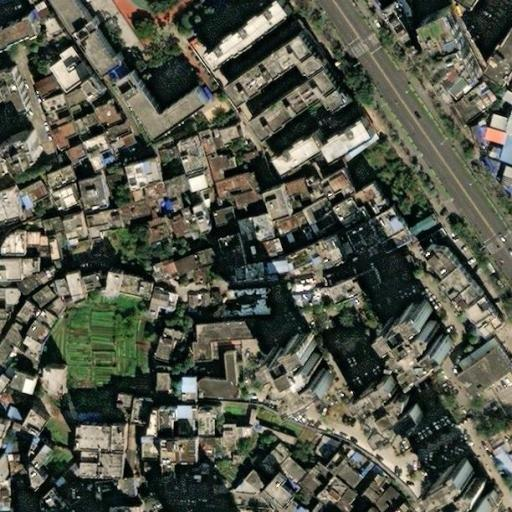building: (218, 30, 320, 102), (242, 66, 342, 138), (113, 72, 201, 137), (372, 294, 445, 367), (340, 361, 407, 430), (49, 0, 114, 70), (261, 332, 325, 399), (424, 459, 493, 512), (421, 6, 469, 61), (191, 322, 253, 363), (389, 4, 433, 60), (476, 433, 512, 496), (443, 269, 489, 318), (265, 130, 315, 172), (317, 118, 366, 160), (300, 178, 336, 235), (39, 44, 83, 90), (482, 15, 512, 80), (375, 211, 417, 255), (283, 267, 327, 308), (23, 312, 56, 366), (449, 83, 493, 123), (201, 354, 237, 401), (0, 261, 42, 299), (246, 216, 278, 263), (471, 300, 509, 338), (326, 173, 362, 211), (329, 451, 365, 489), (360, 185, 395, 224), (293, 463, 329, 500), (185, 277, 227, 308), (209, 171, 255, 199), (81, 135, 111, 177), (339, 199, 374, 234), (310, 477, 345, 512), (131, 183, 164, 220), (31, 439, 56, 486), (352, 222, 386, 256), (323, 236, 358, 269), (325, 276, 363, 306), (27, 0, 60, 34), (252, 441, 284, 476), (152, 257, 195, 283), (282, 240, 319, 270), (431, 249, 465, 281), (365, 482, 401, 512), (222, 467, 260, 494), (8, 89, 39, 122), (255, 473, 288, 504), (45, 120, 75, 154), (257, 184, 286, 219), (81, 181, 109, 217), (69, 422, 105, 450), (160, 177, 187, 214), (485, 417, 512, 454), (218, 237, 249, 269), (353, 472, 383, 505), (124, 160, 155, 191), (266, 456, 297, 487), (160, 440, 196, 466), (277, 181, 307, 212), (2, 481, 32, 512), (194, 408, 220, 443), (345, 464, 373, 496), (57, 144, 84, 176), (88, 210, 120, 237), (494, 87, 512, 135), (152, 327, 176, 362), (93, 103, 124, 130), (172, 139, 197, 172), (31, 289, 60, 317), (314, 448, 342, 477), (0, 11, 26, 42), (326, 489, 361, 512), (66, 218, 94, 246), (17, 408, 45, 436), (148, 407, 177, 434), (214, 126, 240, 156), (274, 490, 309, 512), (104, 126, 133, 152), (70, 115, 95, 145), (229, 217, 254, 247), (0, 198, 26, 226), (223, 189, 249, 217), (2, 321, 27, 350), (115, 204, 142, 230), (17, 303, 42, 331), (54, 188, 80, 214), (209, 208, 232, 236), (410, 216, 436, 240), (144, 222, 168, 247), (11, 375, 37, 398), (102, 454, 124, 481), (0, 237, 23, 262), (126, 280, 151, 303), (268, 216, 294, 238), (198, 210, 217, 240), (494, 133, 512, 164), (90, 82, 113, 106), (70, 277, 89, 306), (214, 426, 243, 445), (189, 248, 215, 269), (202, 158, 223, 184), (0, 291, 16, 325), (155, 480, 196, 493), (162, 217, 184, 241), (41, 369, 63, 393), (39, 94, 64, 115), (154, 368, 169, 403), (149, 291, 172, 313), (160, 466, 196, 480), (305, 433, 325, 458), (130, 401, 149, 427), (36, 488, 58, 510), (138, 440, 160, 462), (188, 175, 211, 196), (5, 430, 26, 453), (138, 462, 160, 483), (47, 232, 61, 264), (388, 496, 416, 512), (84, 277, 107, 296), (103, 424, 119, 451), (477, 125, 501, 143), (53, 462, 72, 484), (39, 218, 63, 235), (202, 0, 227, 16), (356, 271, 375, 292), (182, 379, 197, 405), (243, 263, 264, 281), (230, 150, 249, 169), (49, 280, 67, 300), (481, 112, 501, 130), (93, 483, 115, 499), (496, 166, 512, 188), (115, 276, 128, 302), (177, 421, 194, 440), (263, 261, 284, 276), (73, 462, 94, 476), (295, 228, 312, 245), (62, 476, 80, 492), (74, 450, 95, 463), (115, 481, 133, 496), (70, 414, 95, 423), (22, 233, 36, 249), (0, 408, 17, 421), (177, 408, 194, 421), (101, 505, 132, 512), (230, 268, 244, 282), (305, 502, 324, 512), (115, 397, 129, 410), (356, 504, 374, 512), (138, 483, 150, 494), (36, 239, 45, 252), (0, 369, 9, 381)
